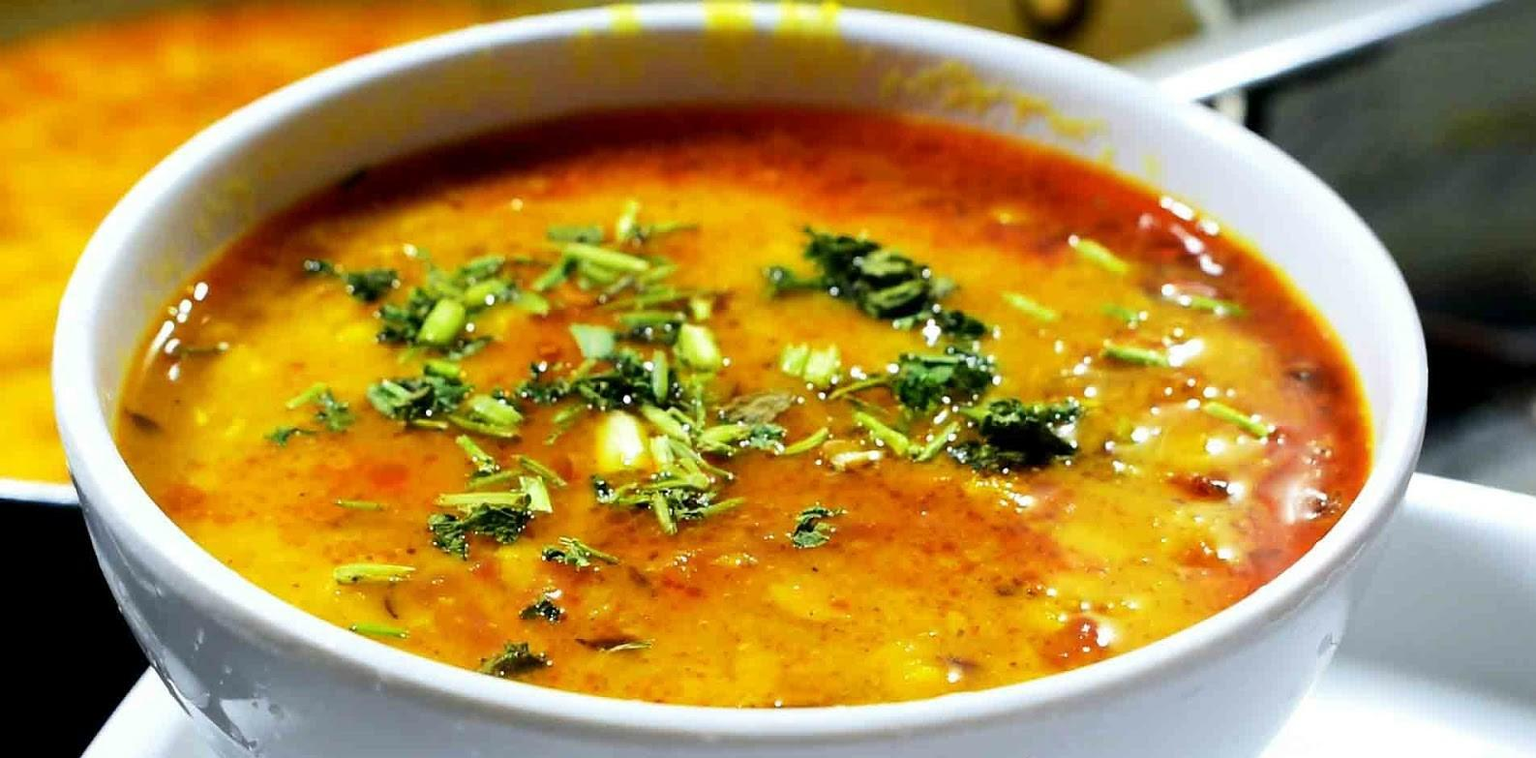Dal: (126, 107, 1365, 708)
